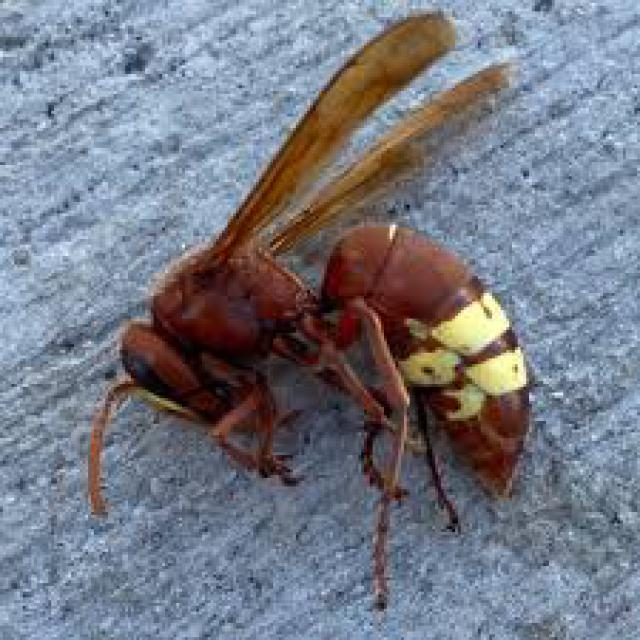Vespa Orientalis: (59, 3, 575, 626)
